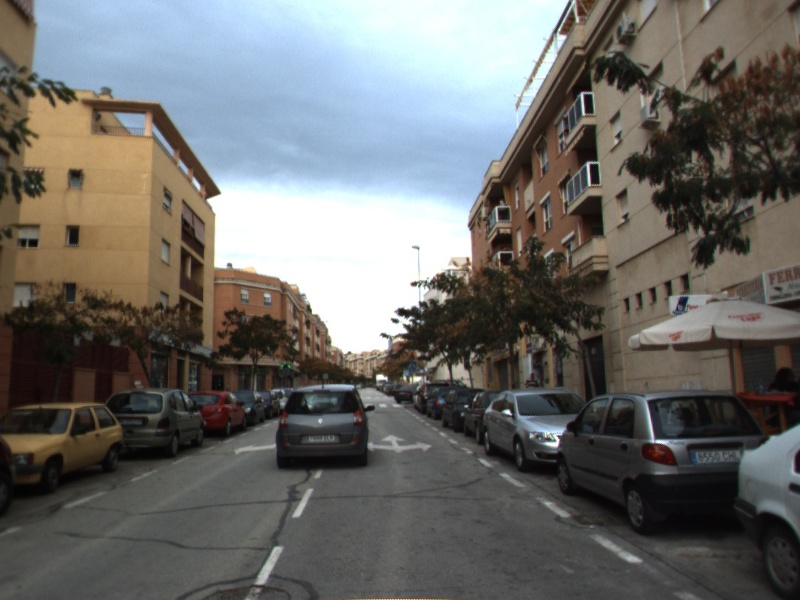STRAIGHT_LEFT_RIGHT: (366, 433, 435, 455)
